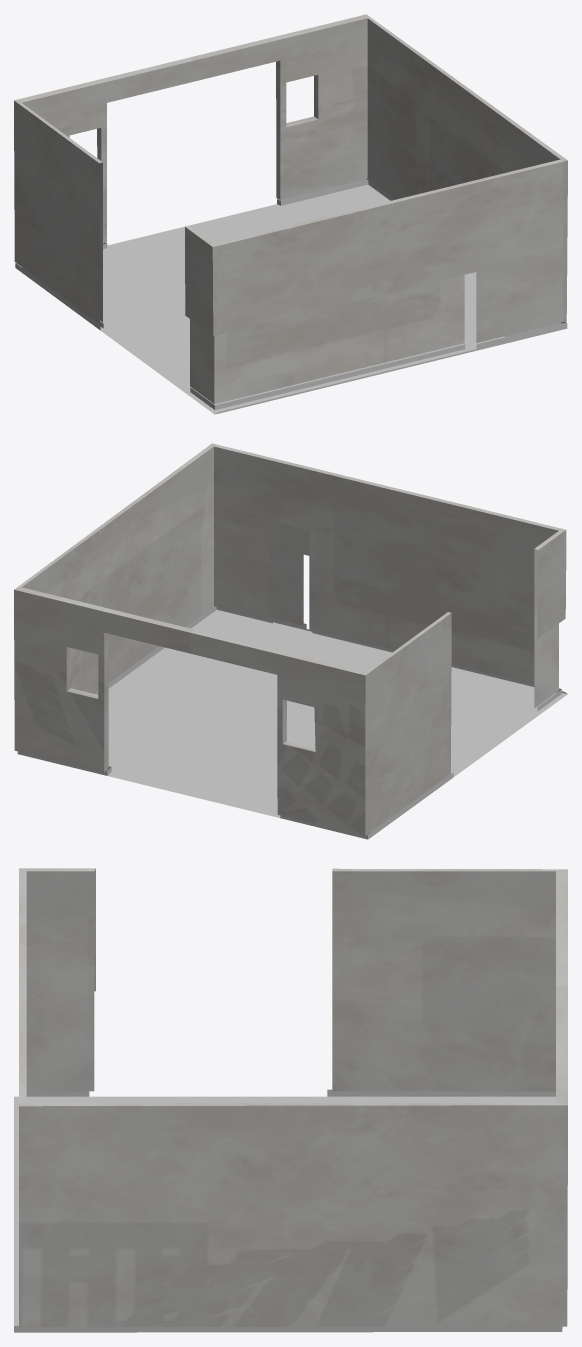
The model's file is floor-wall.gltf.
3 views of the same model, one above another, from view 1: azimuth 30°, elevation 25°; view 2: azimuth 150°, elevation 25°; view 3: azimuth 270°, elevation 25° (orthographic). The views are drawn at different scales.
Visible parts, largest first — view 1: pared, suelo; view 2: pared, suelo; view 3: pared, suelo.
Boxes of the visible parts, x1,y1,x2,y2 form: pared: [14, 14, 567, 404]; suelo: [15, 178, 567, 414]; pared: [14, 443, 566, 835]; suelo: [17, 606, 567, 839]; pared: [19, 868, 567, 1327]; suelo: [14, 1089, 562, 1332].
Bounding box in the file's own units: 68.22 × 30.51 × 67.14.
